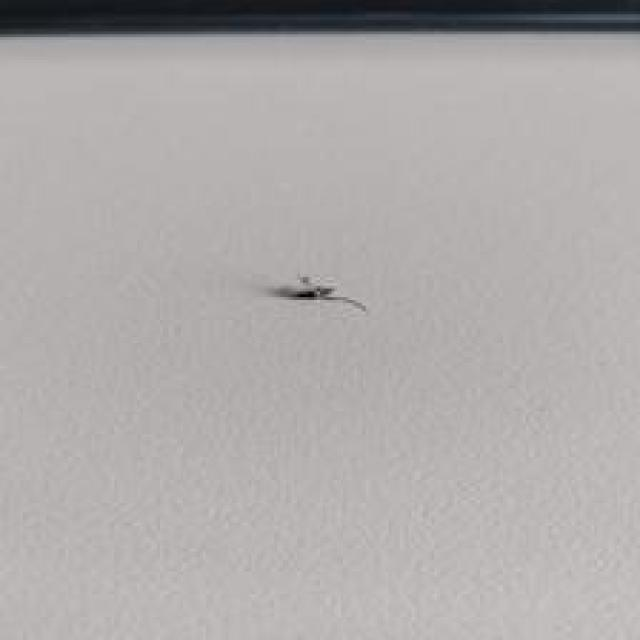Aedes albopictus: (270, 272, 367, 314)
